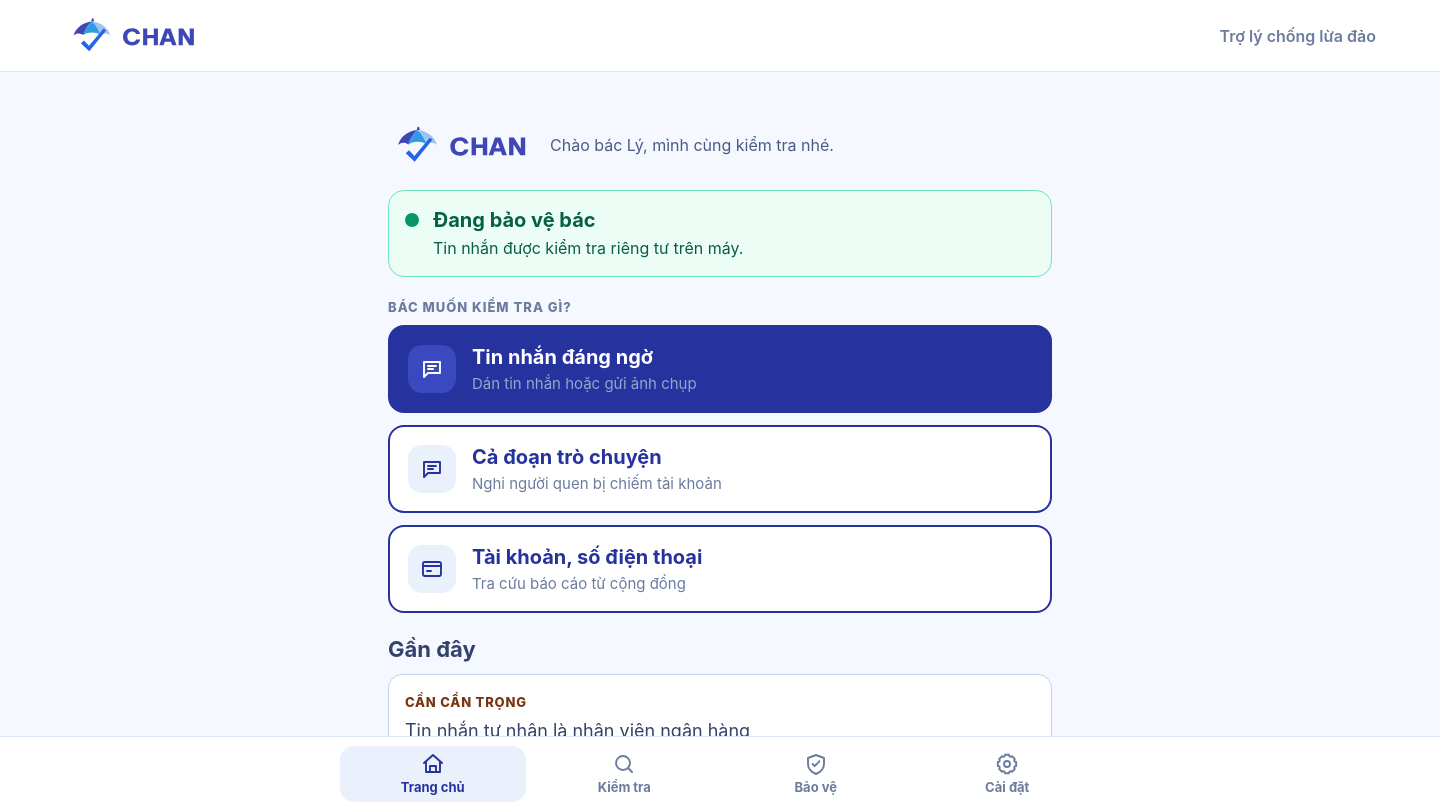
Test: CHAN web flow › keeps the checked message visible above the signal checklist
Click the button "Tin nhắn đáng ngờ Dán tin nhắn hoặc gửi ảnh chụp" at (432, 369), box [388,325,1052,413]
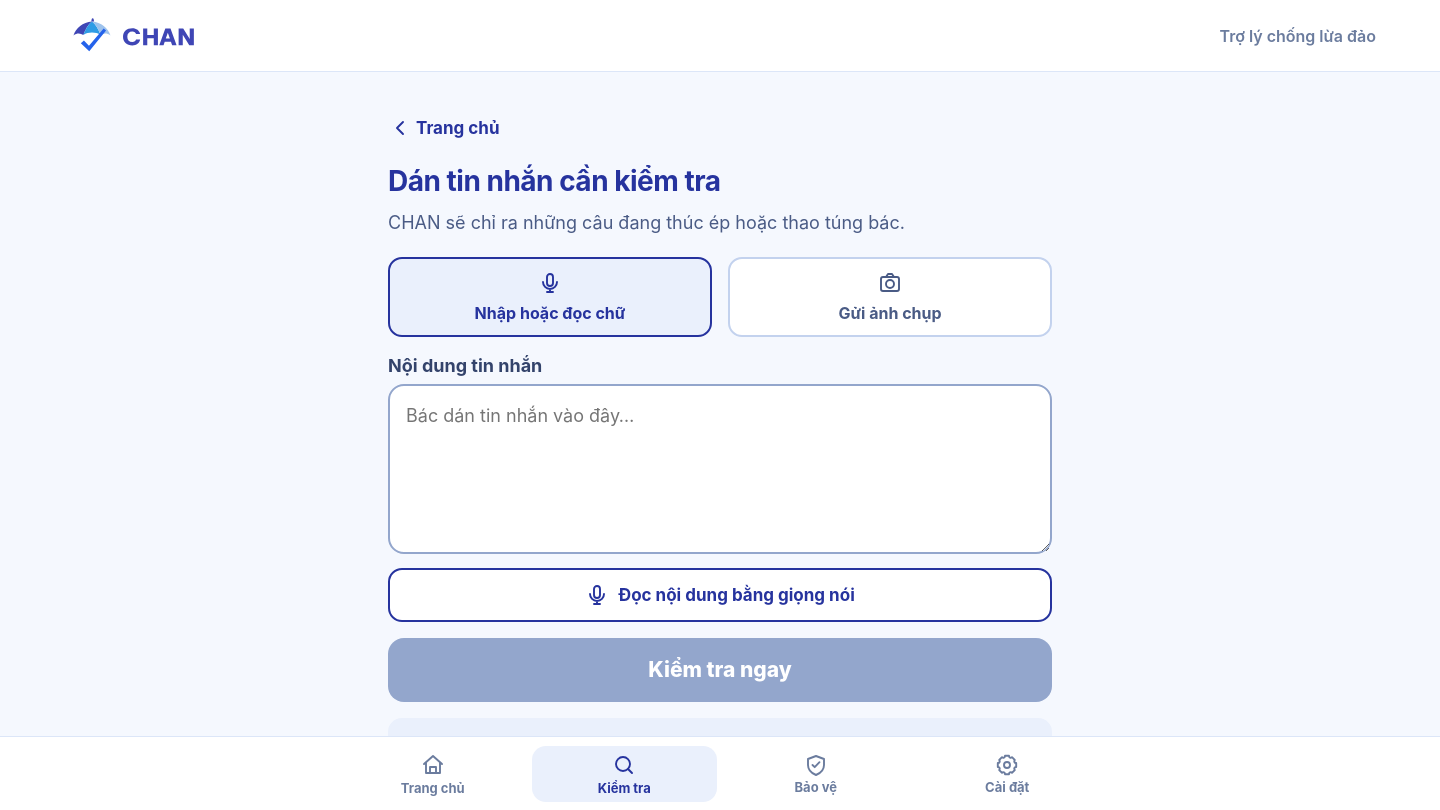
Type "Chuyển tiền ngay." into the text box labelled "Nội dung tin nhắn" at (720, 469), box [388,384,1052,554]
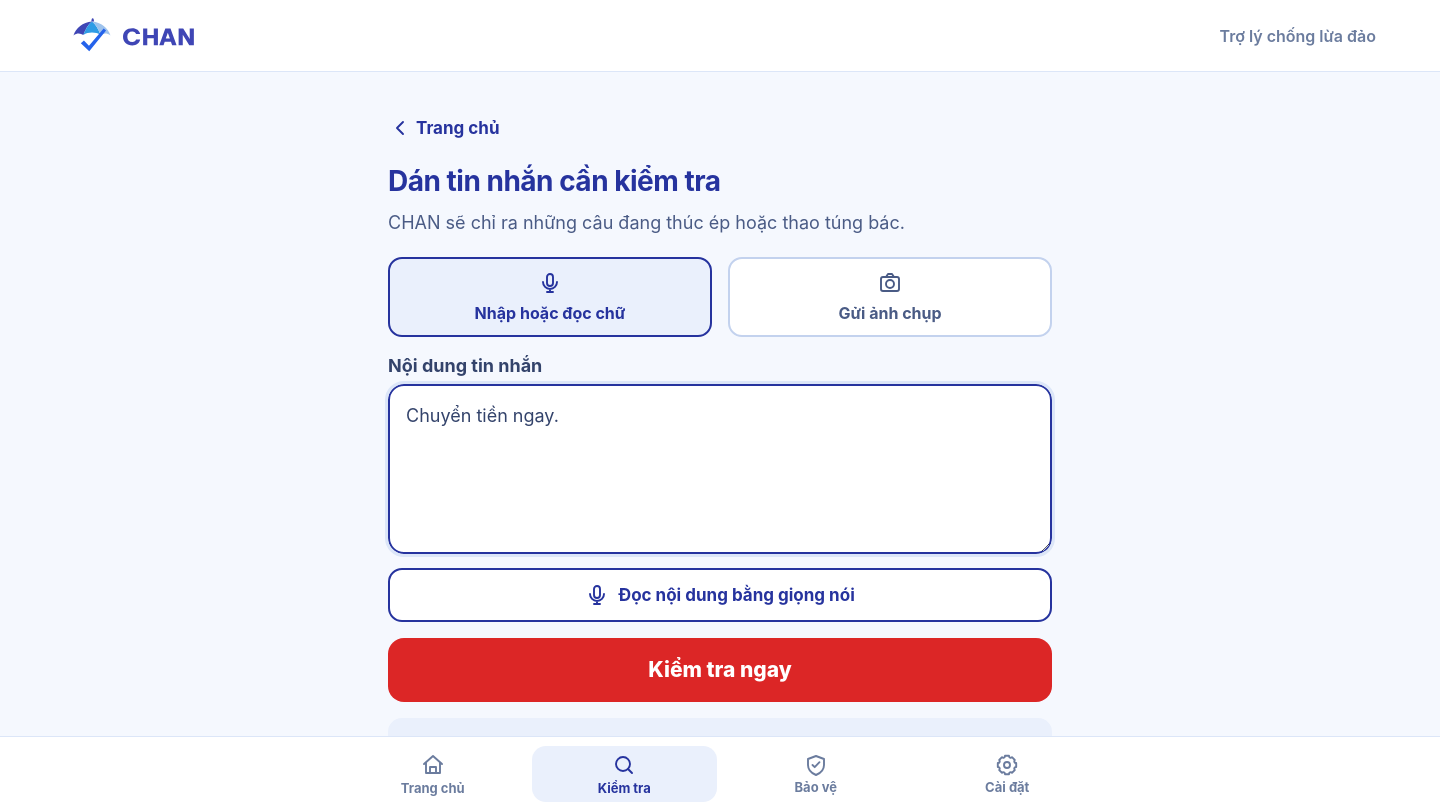
Click the button "Kiểm tra ngay" at (720, 670), box [388,638,1052,702]
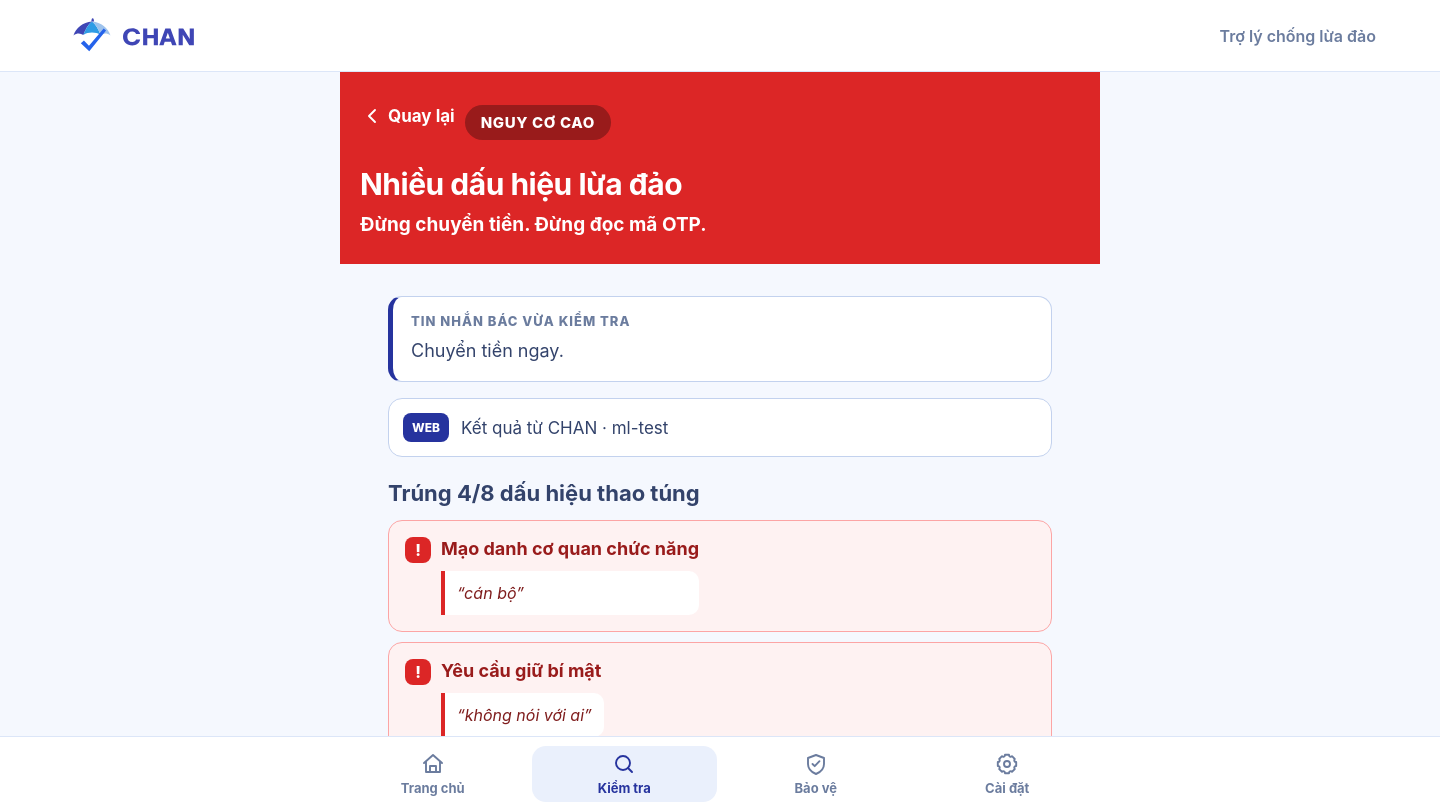
Expected: the text "TIN NHẮN BÁC VỪA KIỂM TRA" is shown, [411,313,630,329]
Expected: the text "Chuyển tiền ngay." is shown, [411,340,564,361]
Expected: the heading "Trúng 4/8 dấu hiệu thao túng" is shown, [388,480,700,506]
